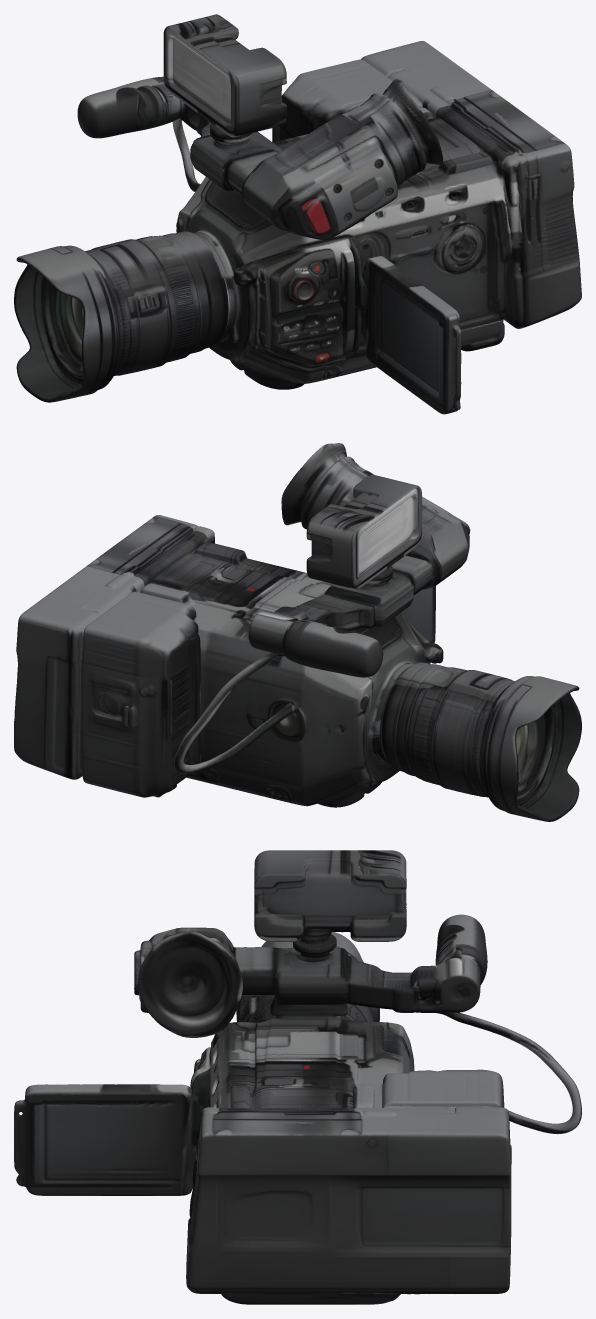
The model's file is camera.glb.
The picture shows the model from 3 angles, top to bottom: view 1: azimuth 30°, elevation 25°; view 2: azimuth 150°, elevation 25°; view 3: azimuth 270°, elevation 25°; orthographic projection. The views are drawn at different scales.
Visible parts, largest first — view 1: tripo_node_a3c4479c-3291-4922-afba-92b298c7dc7c; view 2: tripo_node_a3c4479c-3291-4922-afba-92b298c7dc7c; view 3: tripo_node_a3c4479c-3291-4922-afba-92b298c7dc7c.
Boxes of the visible parts, <box> form: tripo_node_a3c4479c-3291-4922-afba-92b298c7dc7c: <box>14,14,581,414</box>; tripo_node_a3c4479c-3291-4922-afba-92b298c7dc7c: <box>14,443,581,821</box>; tripo_node_a3c4479c-3291-4922-afba-92b298c7dc7c: <box>14,850,581,1304</box>.
Size of the model in its own units: 1 by 0.6315 by 0.9754.
1 material, 1 textured.
